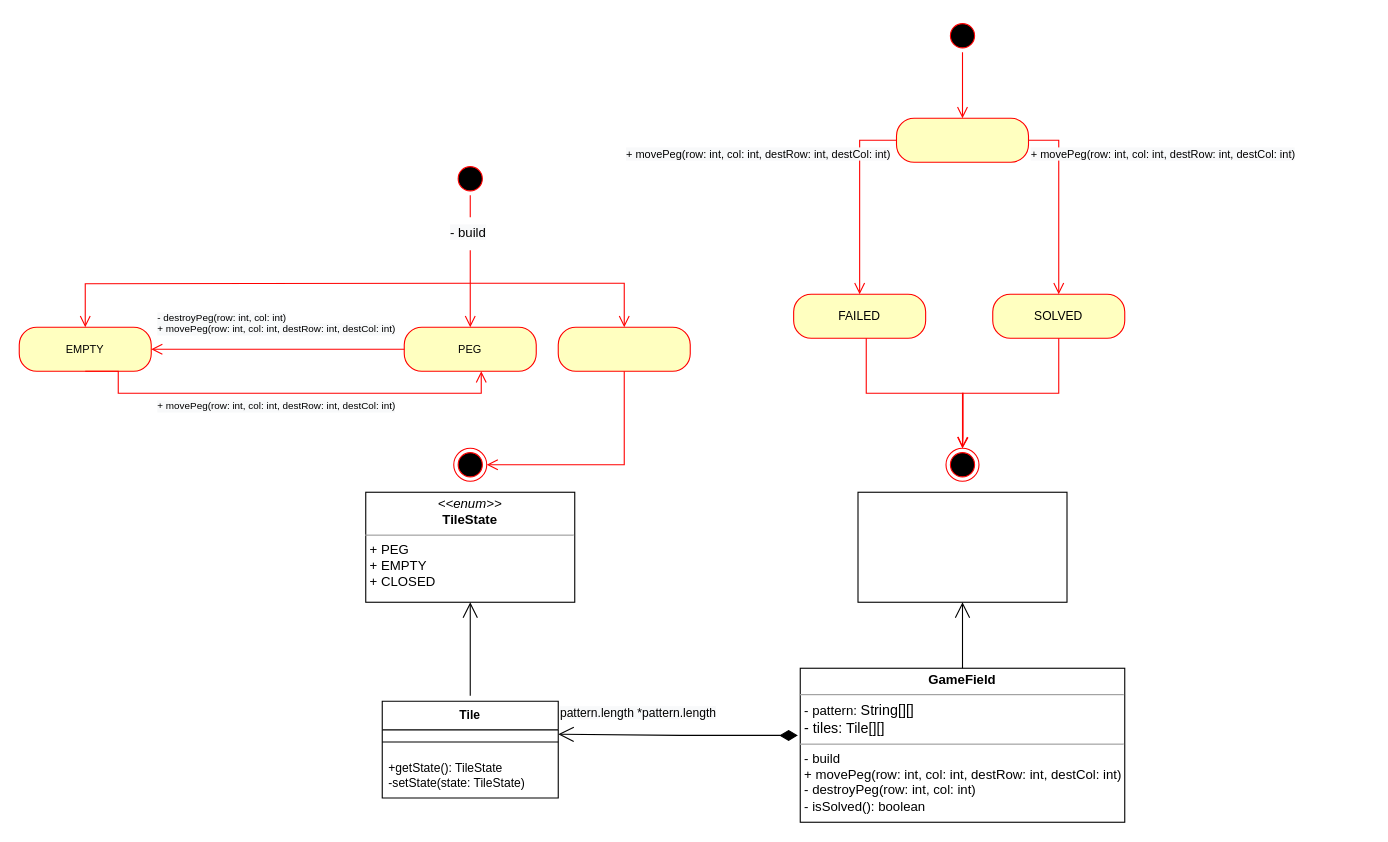
Image size: 1388x842. Some labels were removed from this diagram. Here are the shapes that lost their labels. From the top down, the box of each, then its label:
(895, 117, 1028, 162): PLAYING
(557, 326, 690, 371): CLOSED
(857, 491, 1067, 602): <<enum>> FieldState + PLAYING + SOLVED + FAILED
